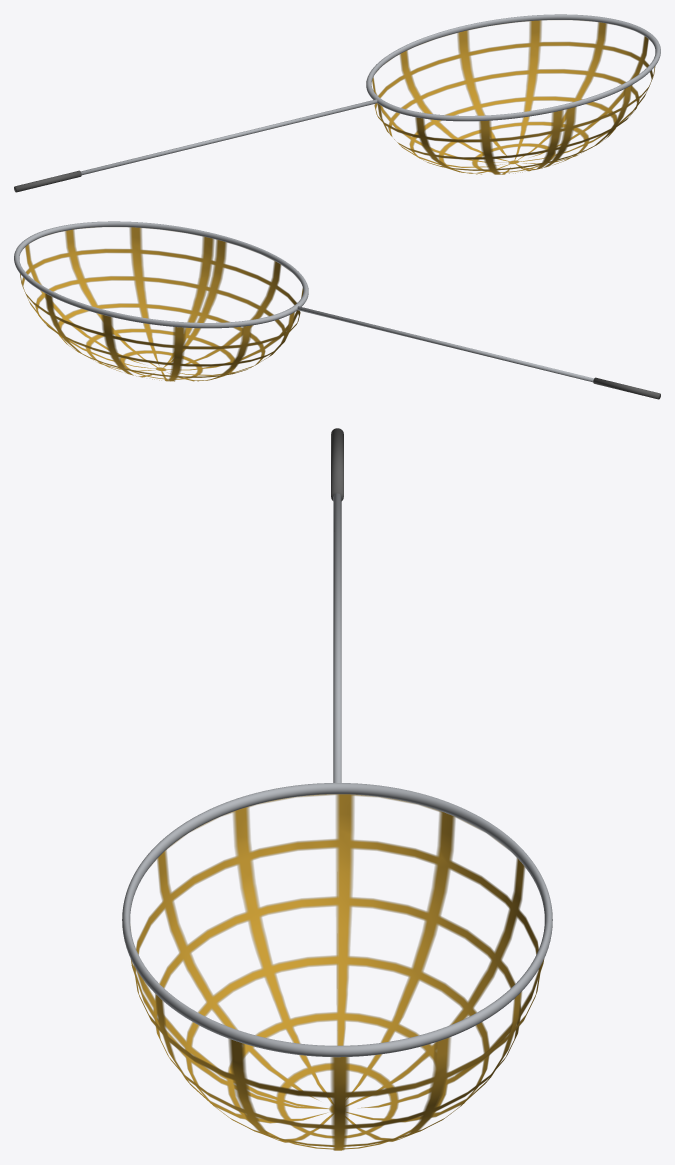
The model's file is net.glb.
3 views of the same model, one above another, from view 1: azimuth 30°, elevation 25°; view 2: azimuth 150°, elevation 25°; view 3: azimuth 270°, elevation 25° (orthographic). The views are drawn at different scales.
Parts seen in each view (by area): view 1: net; view 2: net; view 3: net.
Boxes of the visible parts, box(x1,y1,x2,y2) form: net: box(14, 14, 660, 192); net: box(14, 221, 660, 399); net: box(122, 428, 552, 1150).
Size of the model in its own units: 0.5 by 0.0735 by 0.1468.
Materials: 4 (1 with a texture image).
